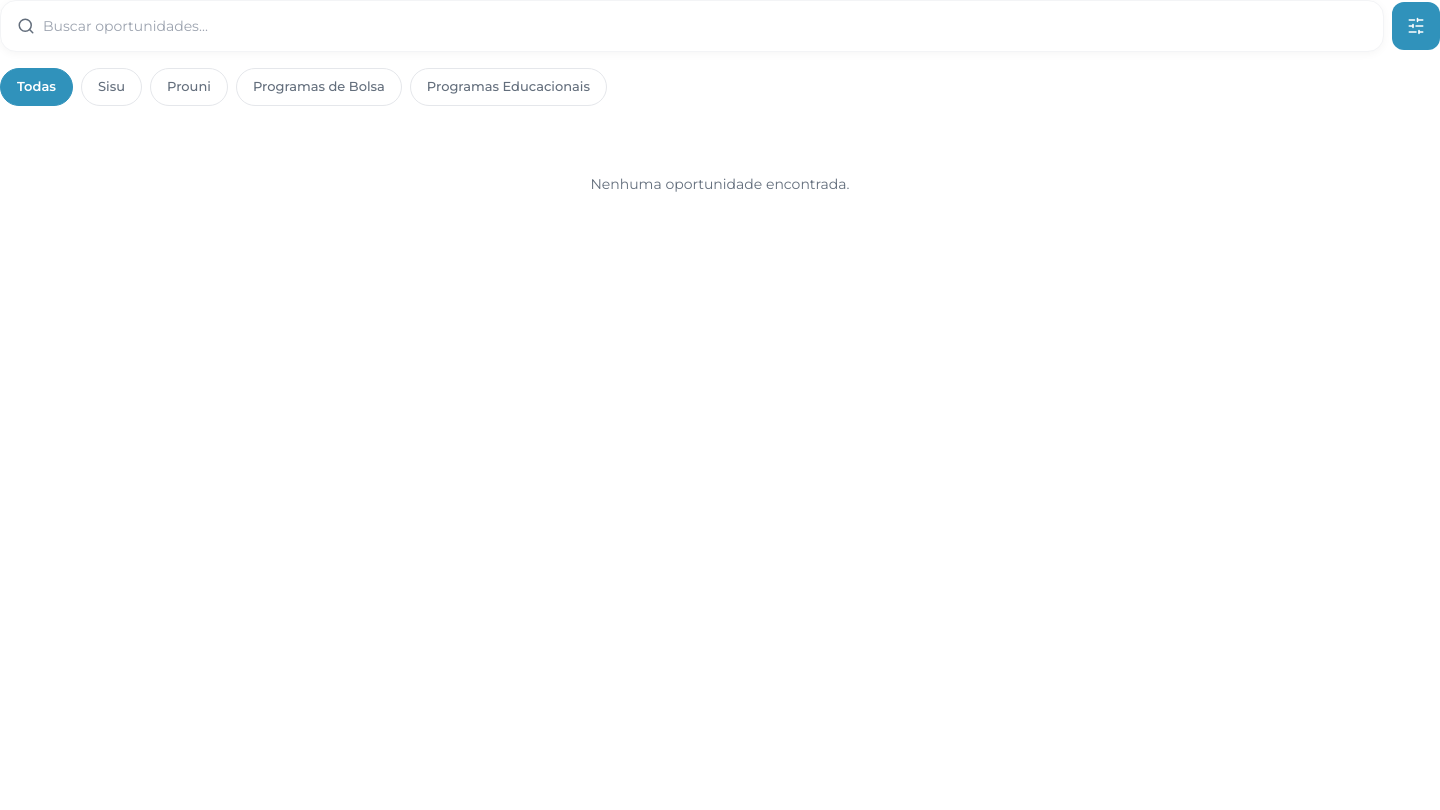
Test: ExploreClient › botão "Abrir filtros avançados" abre o FilterModal
Click the button named "Abrir filtros avançados": point(1416, 26) [1392, 2, 1439, 50]
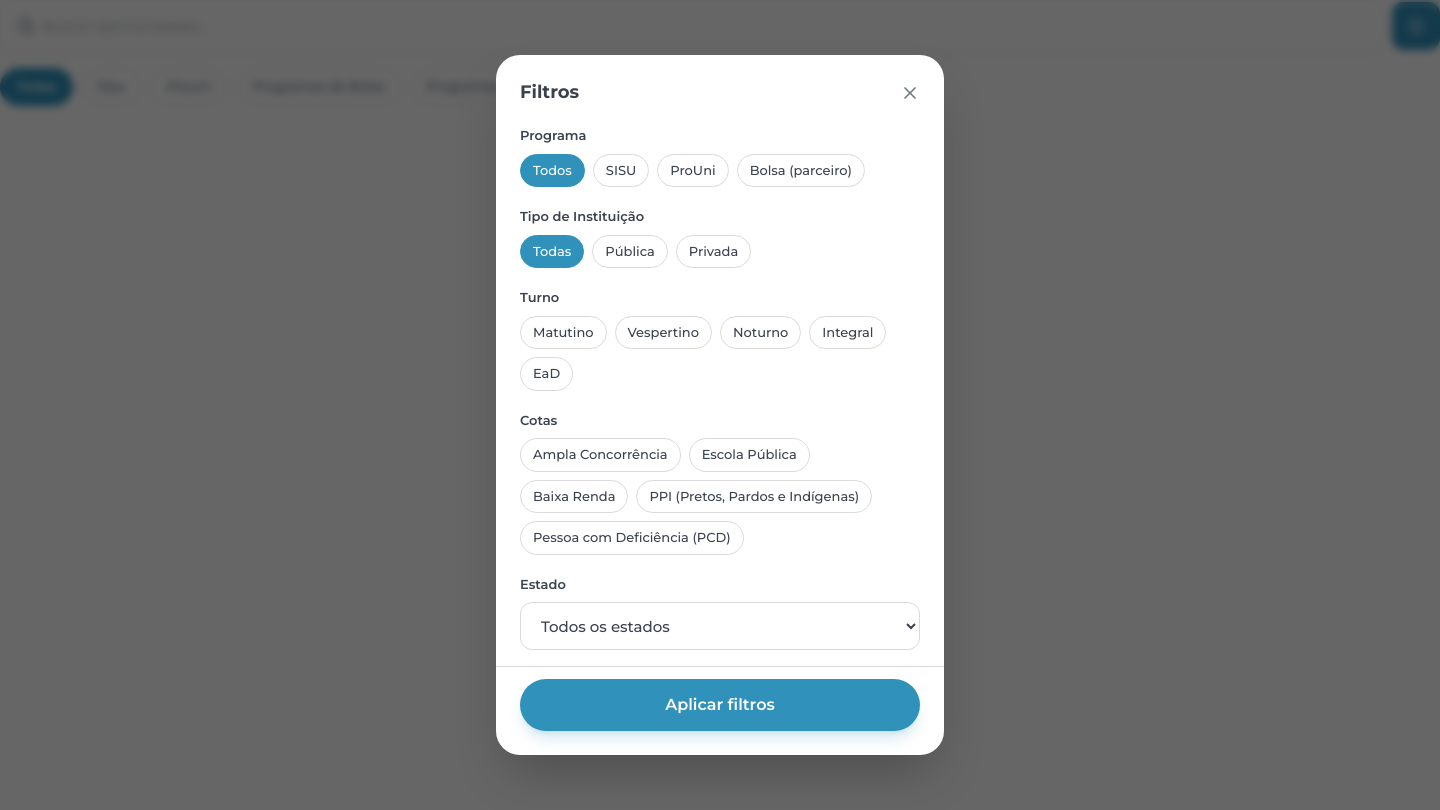
Check: the dialog is shown, box [496, 55, 944, 755]
